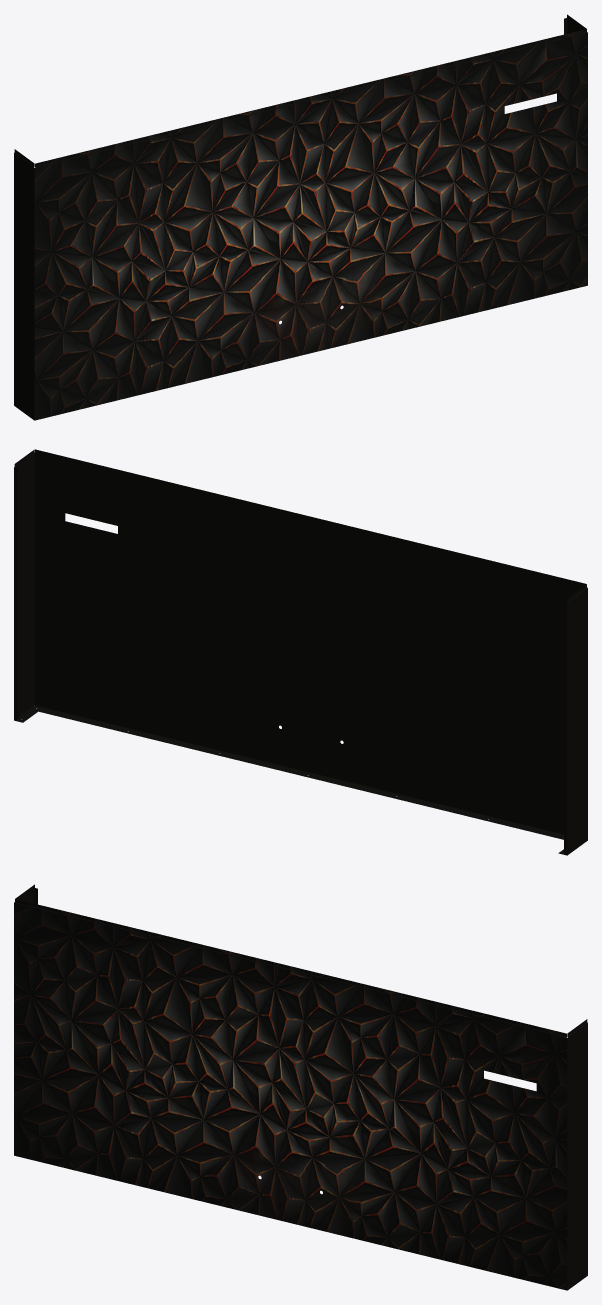
The model's file is faceFrontal.glb.
3 views of the same model, one above another, from view 1: azimuth 30°, elevation 25°; view 2: azimuth 150°, elevation 25°; view 3: azimuth 330°, elevation 25° (orthographic).
Visible parts, largest first — view 1: 5025001-01; view 2: 5025001-01; view 3: 5025001-01.
Boxes of the visible parts, x1,y1,x2,y2 form: 5025001-01: (14,14,587,420); 5025001-01: (14,449,587,855); 5025001-01: (14,884,587,1290).
Bounding box in the file's own units: 1.8 × 0.7973 × 0.116.
1 material, 1 textured.
